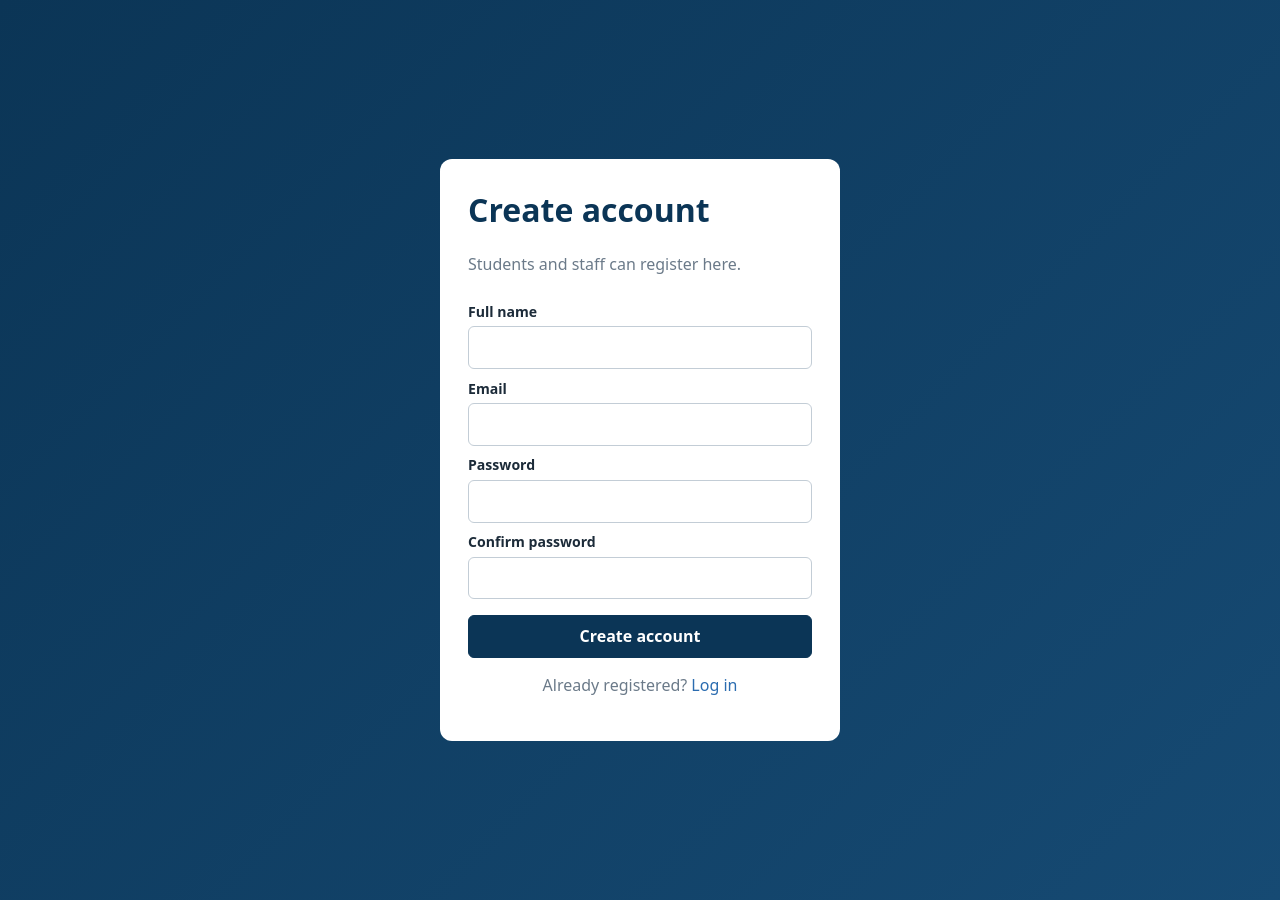
Test case: Register form › shows messages for a weak password and mismatched confirmation, with no API call
Type "Ada Student" into the field labelled "Full name" at (640, 348), box [468,326,812,369]
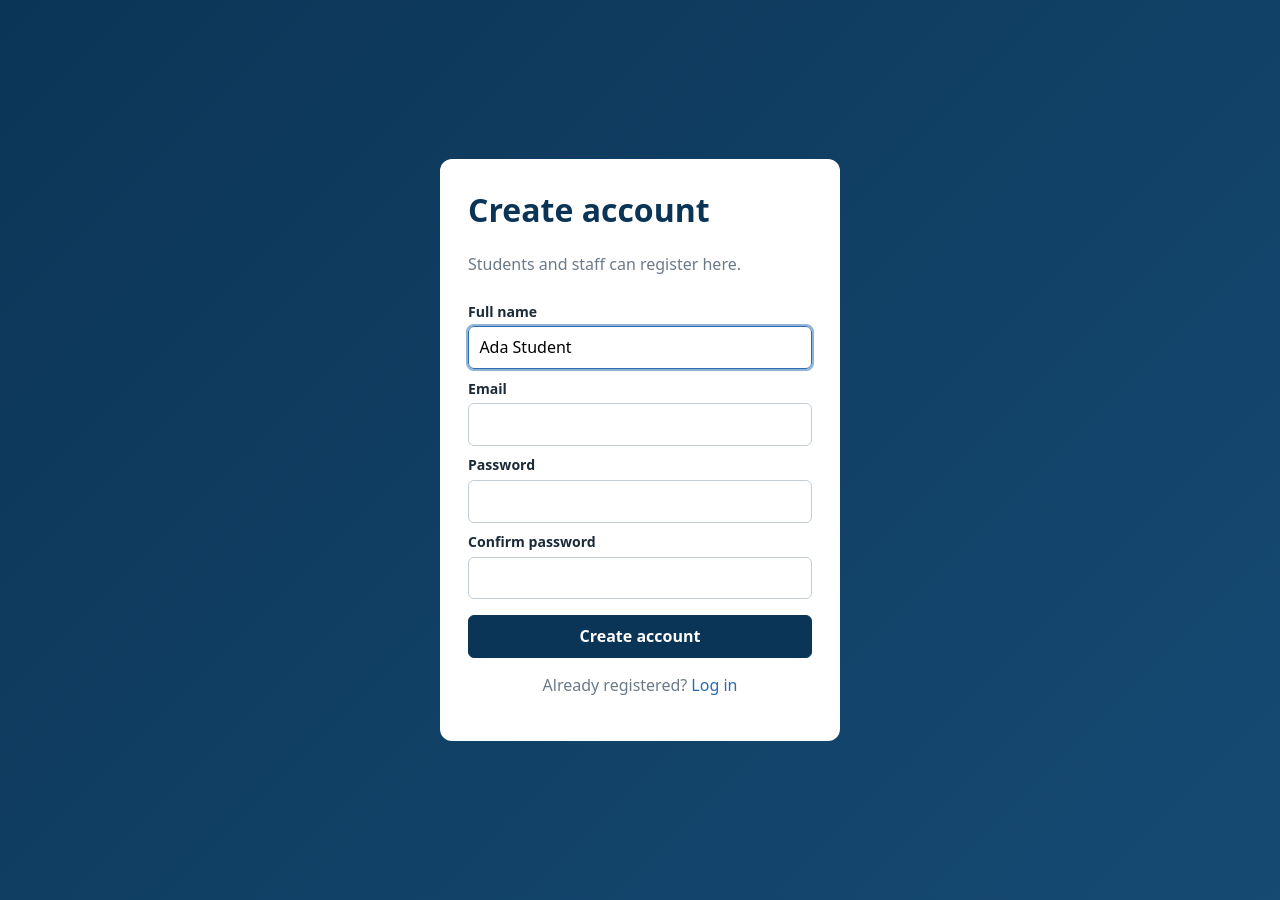
Type "ada@test.edu" into the field labelled "Email" at (640, 424), box [468,403,812,446]
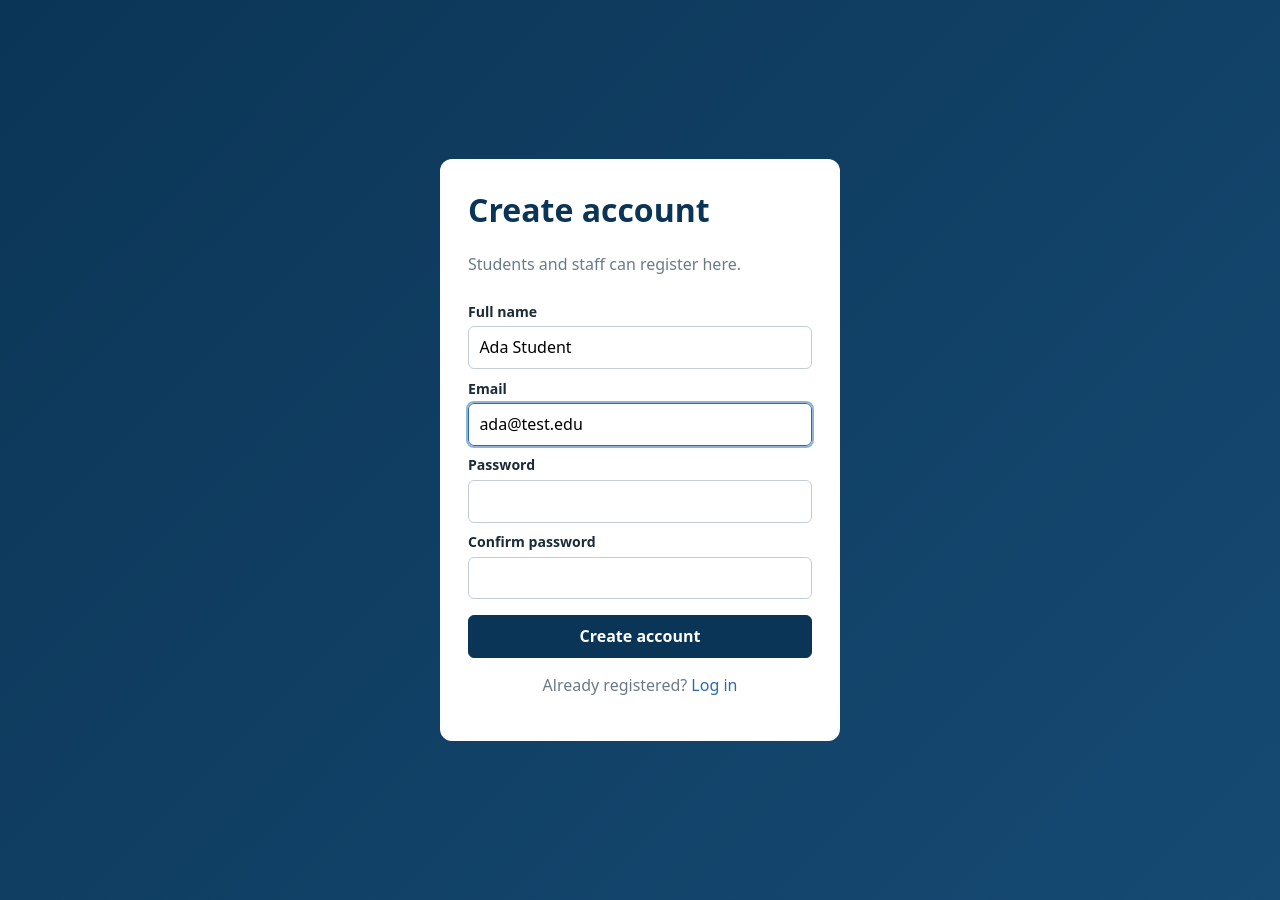
Type "abc" into the password field labelled "Password" at (640, 501), box [468,480,812,523]
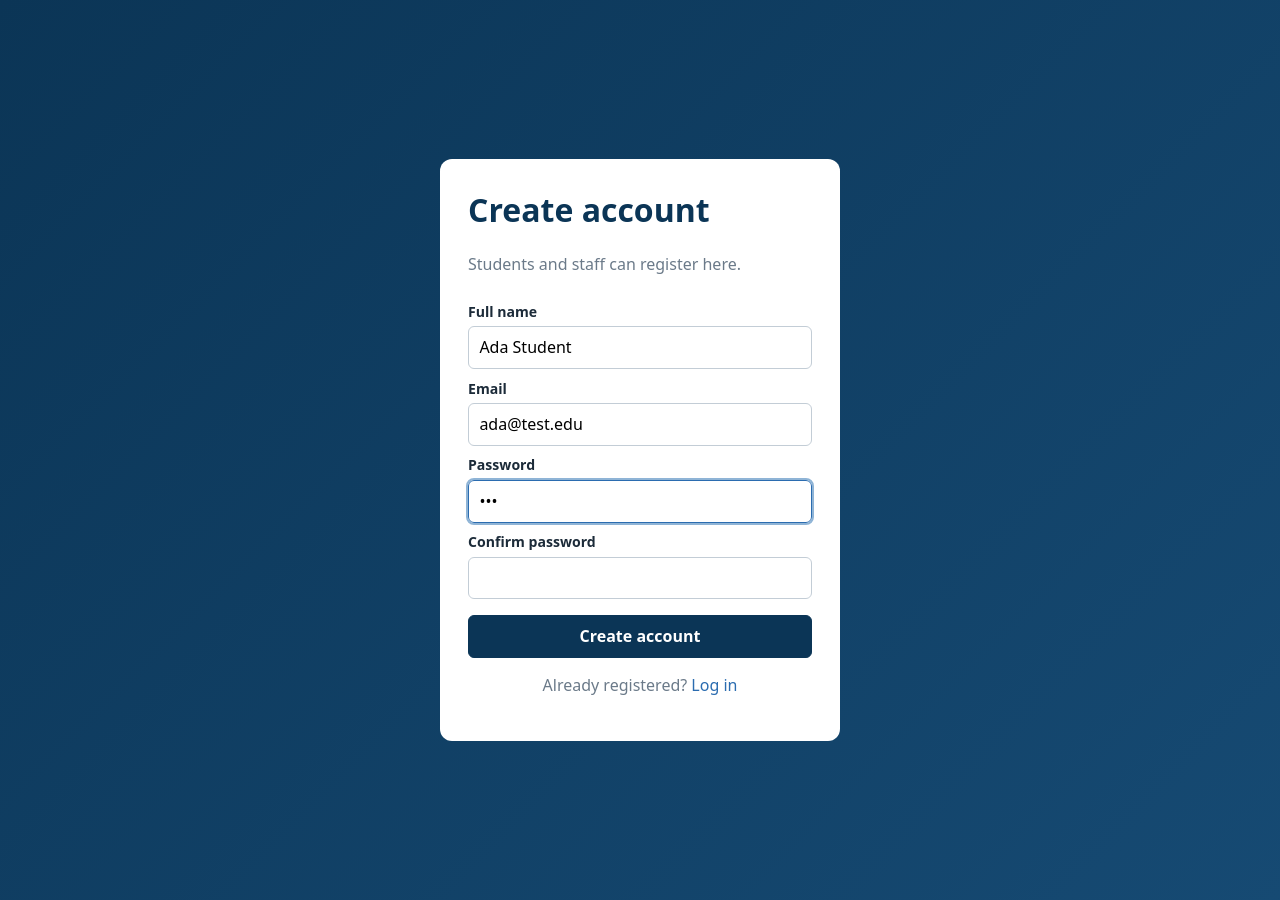
Type "xyz" into the password field labelled "Confirm password" at (640, 578), box [468,557,812,599]
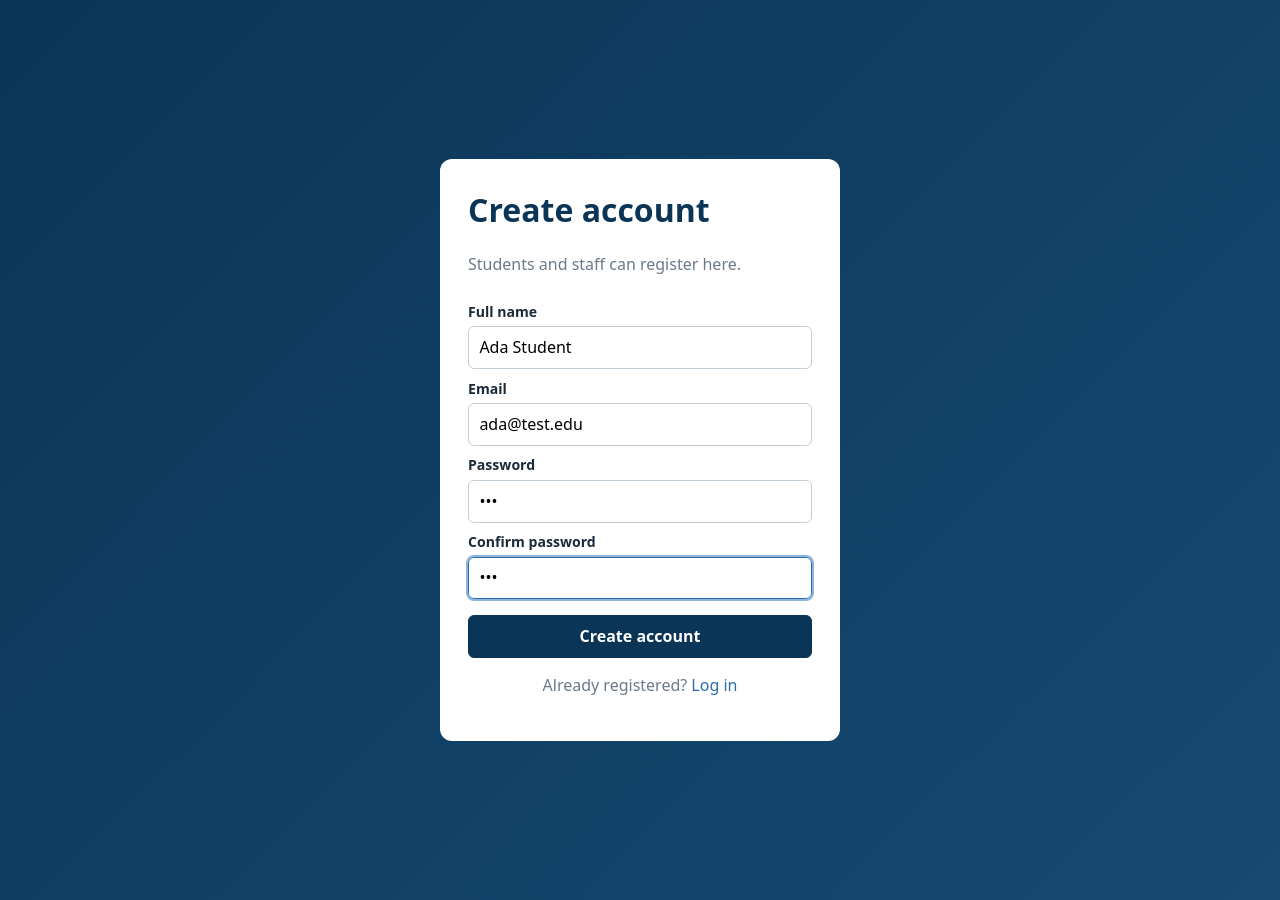
Click the button "Create account" at (640, 637), box [468,615,812,658]
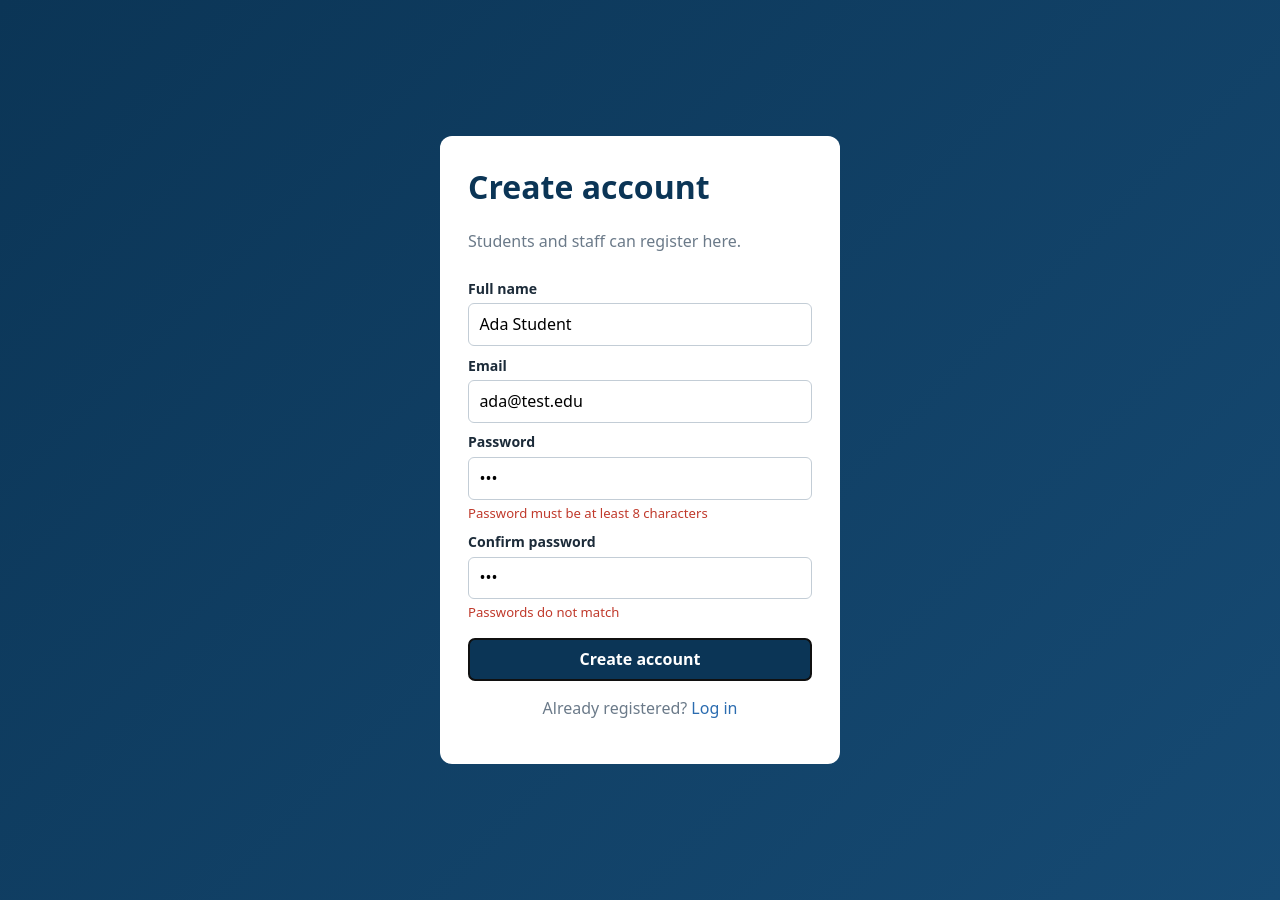
Expected: the text "Password must be at least 8 characters" is shown, [468,504,708,522]
Expected: the text "Passwords do not match" is shown, [468,603,619,621]
